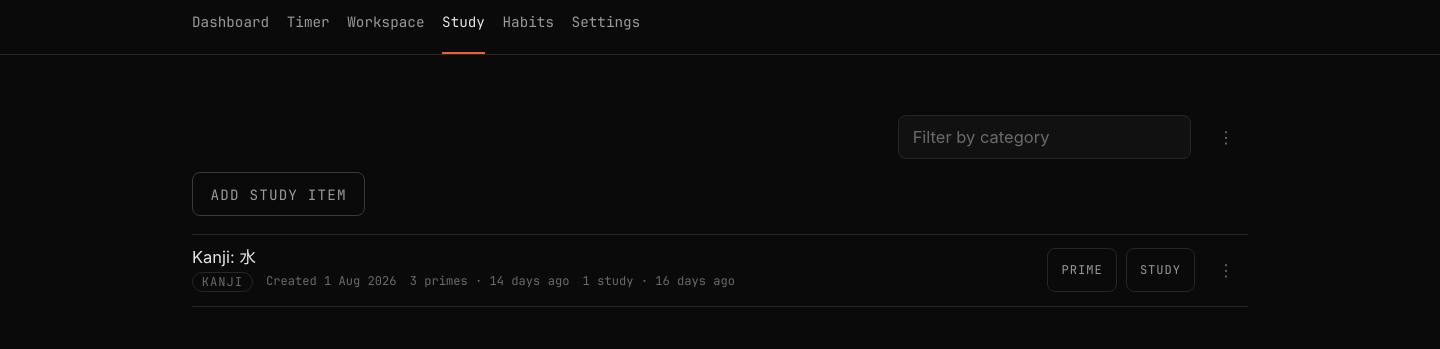
logging interactions › reveals the answer first, then logs the study on the next press
Click the button with aria-label "show the answer for kanji: 水" at (1160, 270), box [1126,248,1195,292]
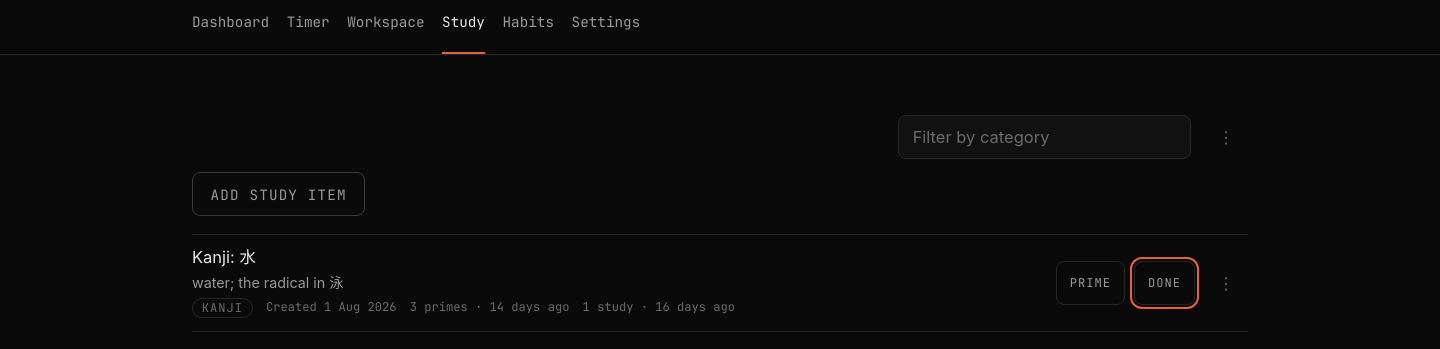
Now the text "water; the radical in 泳" is shown, box [192,274,344,291]
Click the button with aria-label "finish studying kanji: 水" at (1165, 283), box [1134,261,1195,305]
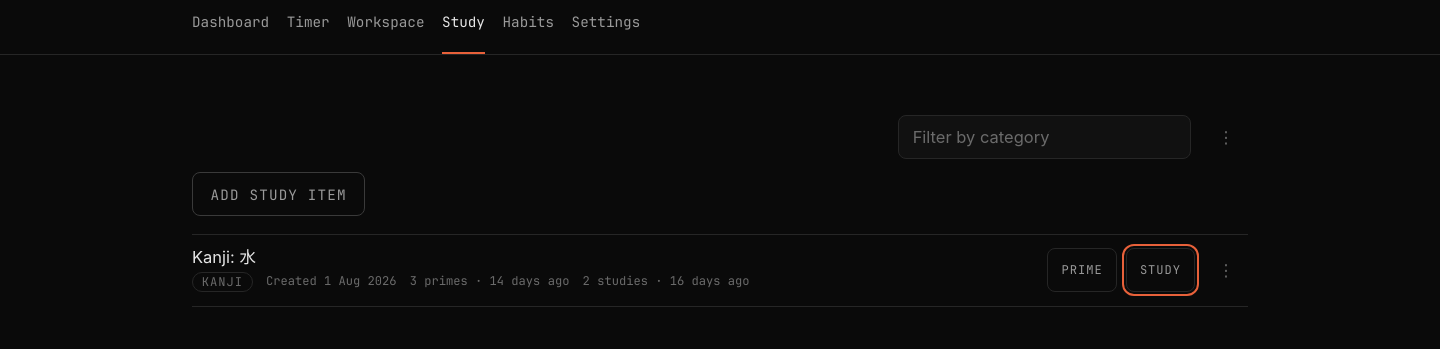
Now the text "2 studies · 16 days ago" is shown, box [583,272,750,292]
Now the text "water; the radical in 泳" is gone
